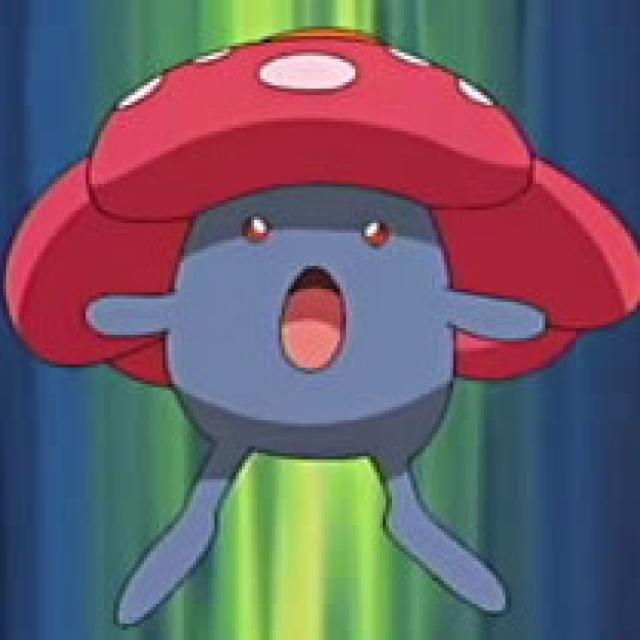Vileplume: (78, 24, 537, 606)
